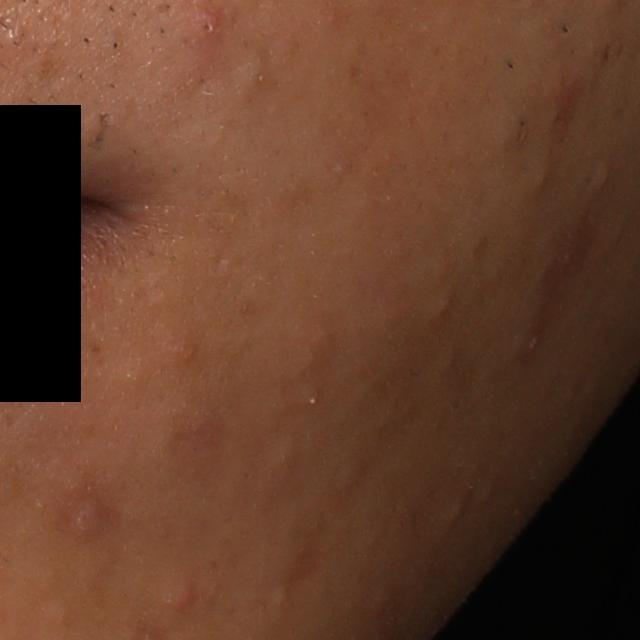comedo: (241, 54, 272, 96), (446, 495, 471, 527), (271, 579, 293, 609), (531, 166, 553, 191)
papule: (65, 496, 110, 539), (160, 575, 197, 620), (184, 6, 222, 45)
